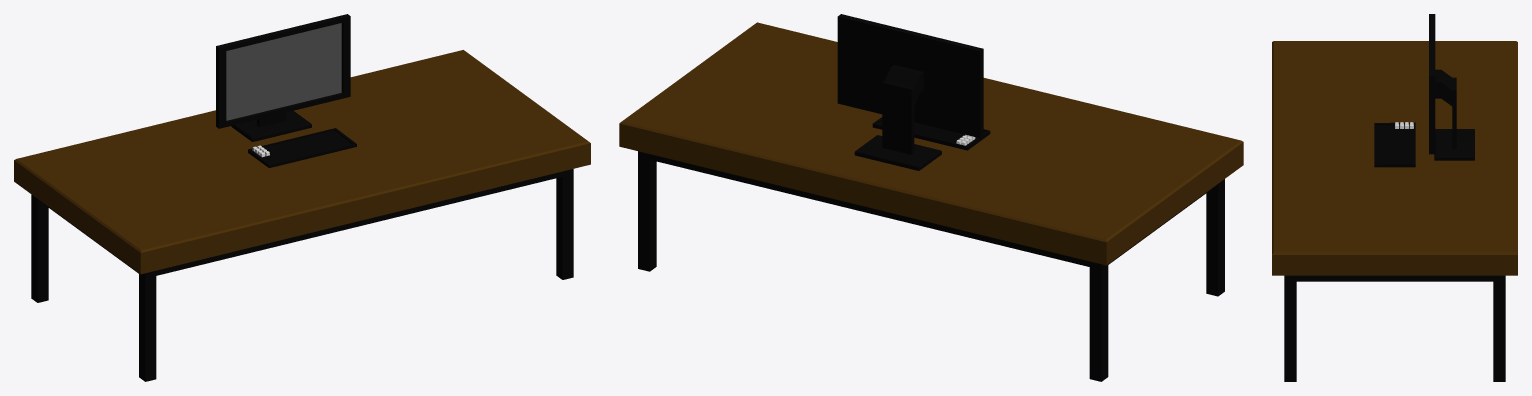
File: desk.glb
3 views of the same model, side by side, from view 1: azimuth 30°, elevation 25°; view 2: azimuth 150°, elevation 25°; view 3: azimuth 270°, elevation 25° (orthographic). The views are drawn at different scales.
Parts seen in each view (by area): view 1: desk, monitor, keyboard; view 2: desk, monitor, keyboard; view 3: desk, monitor, keyboard.
Part boxes in pixels (box(x1,y1,x2,y2)): desk: box(14, 50, 590, 381); monitor: box(216, 14, 350, 141); keyboard: box(248, 128, 356, 168); desk: box(619, 22, 1243, 381); monitor: box(837, 14, 983, 170); keyboard: box(872, 117, 990, 150); desk: box(1272, 41, 1517, 381); monitor: box(1429, 14, 1474, 160); keyboard: box(1374, 122, 1415, 167).
Size of the model in its own units: 4.1 by 2.11 by 2.
